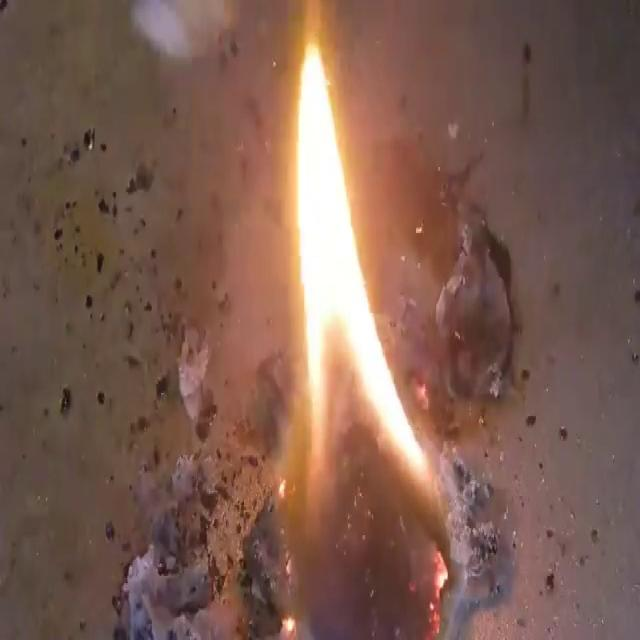Fire: (3, 4, 637, 638), (279, 36, 456, 634)
